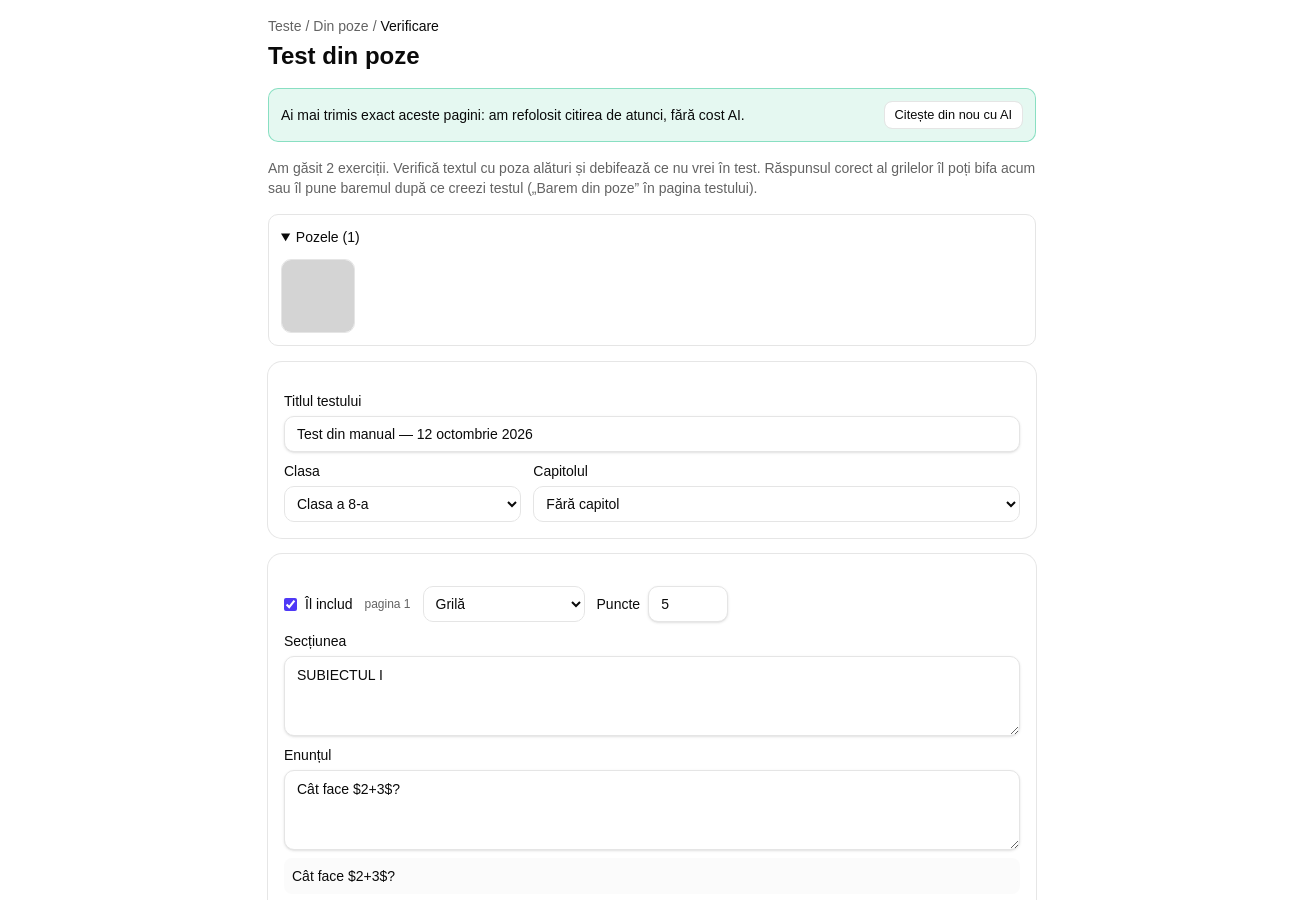
Test case: AdminAiImportPage › says when the same pages reused an earlier reading at no cost, and can still ask the AI afresh
The width and height of the screenshot is (1292, 900).
Expected: the element with test id "ai-reused" shows "fără cost AI", [281,107,745,123]
Click the button "Citește din nou cu AI" at (953, 115), box [884,101,1023,129]
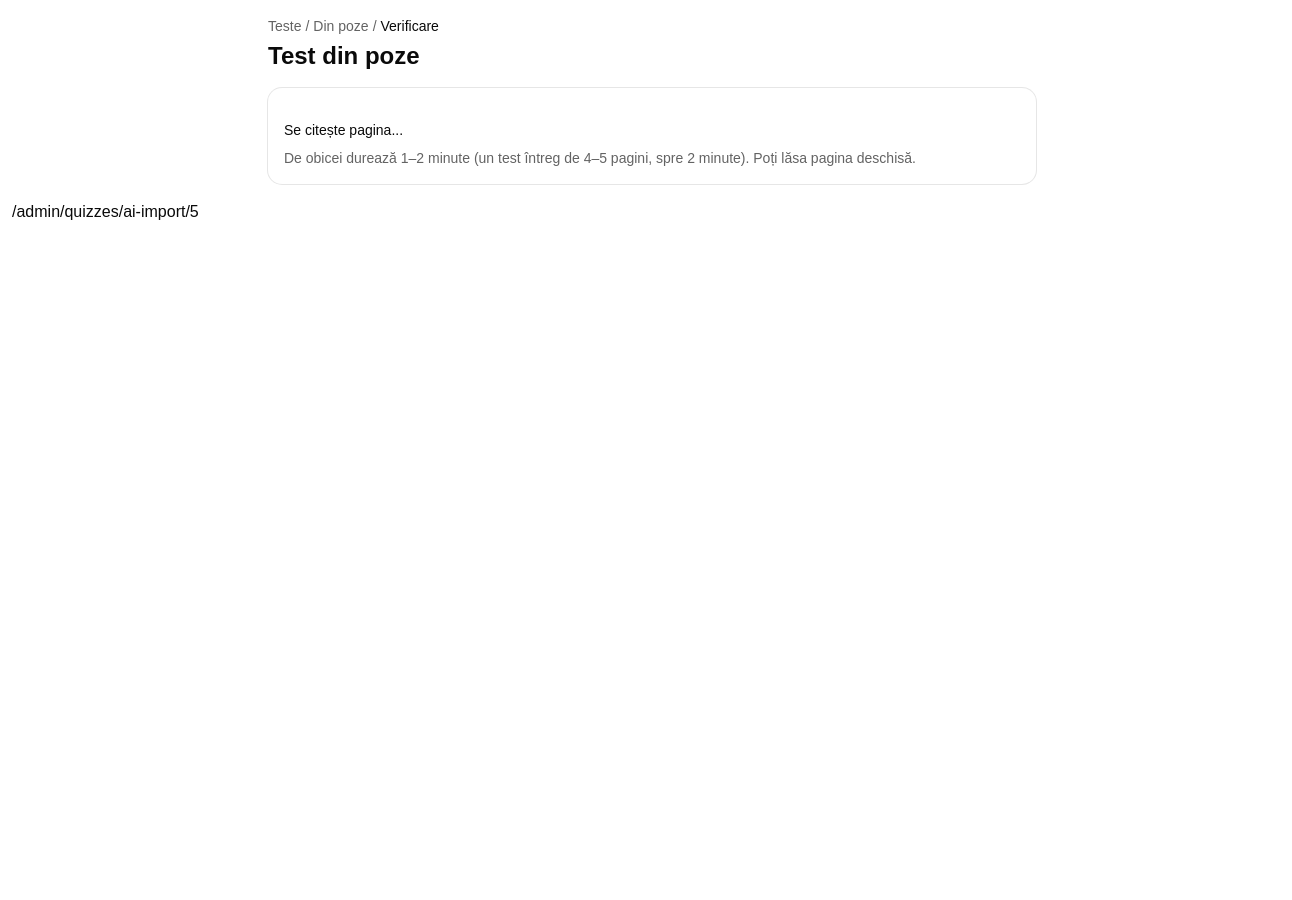
Result: the text "Se citește pagina..." is shown at [284,122,403,138]
